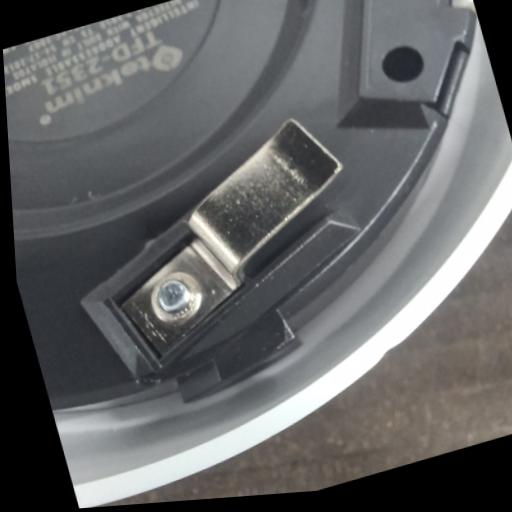yaysiz: (56, 109, 384, 396)
